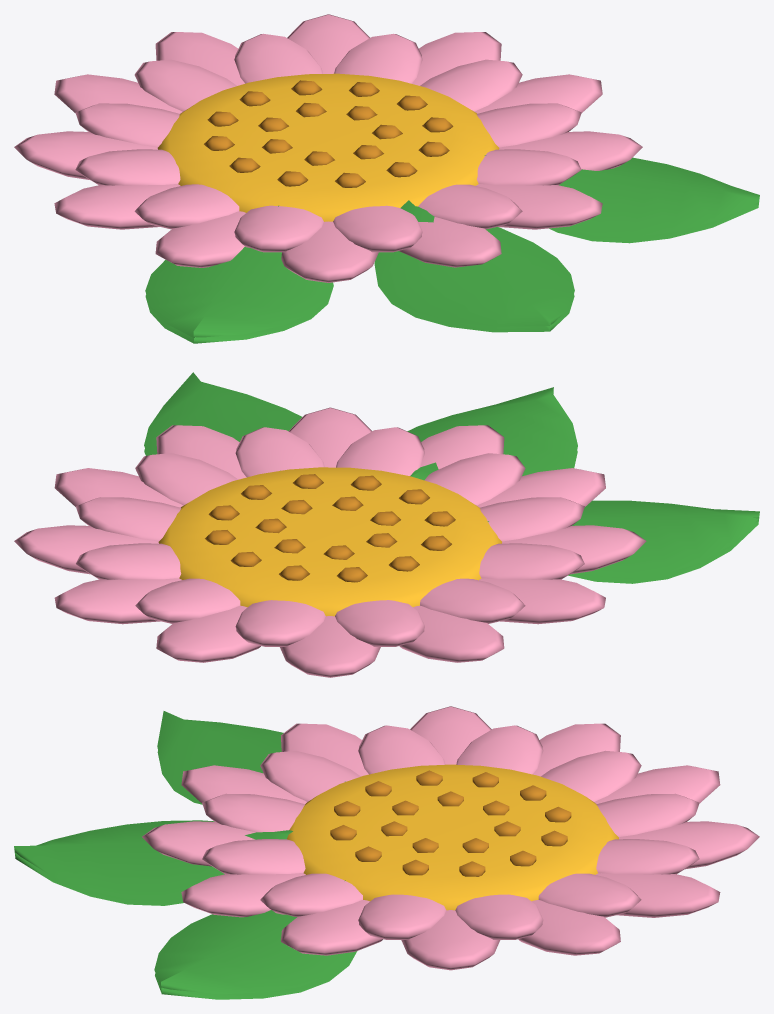
Rendered from HoneyDaisyPad.obj.
3 renders of one model, top to bottom at view 1: azimuth 30°, elevation 25°; view 2: azimuth 150°, elevation 25°; view 3: azimuth 270°, elevation 25°, orthographic. The views are drawn at different scales.
Parts seen in each view (by area): view 1: Petals, Leaves, Center, Seeds; view 2: Petals, Center, Leaves, Seeds; view 3: Petals, Center, Leaves, Seeds.
Part boxes in pixels (x1,y1,x2,y2): Petals: (14, 14, 642, 282); Leaves: (145, 155, 759, 343); Center: (157, 73, 499, 221); Seeds: (204, 80, 453, 187); Petals: (14, 407, 646, 677); Center: (158, 467, 501, 616); Leaves: (144, 372, 759, 583); Seeds: (205, 474, 455, 582); Petals: (142, 706, 759, 970); Center: (287, 764, 618, 910); Leaves: (14, 711, 357, 999); Seeds: (330, 770, 571, 876).
Size of the model in its own units: 4.98 by 0.4132 by 5.79.
